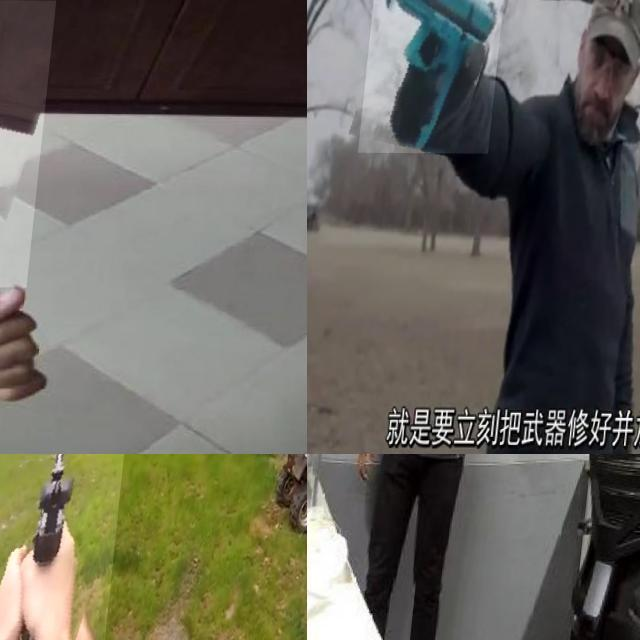-: (0, 0, 126, 286), (515, 454, 549, 492)
gun-knife-thesis - v11 Yolov5 augmented: (0, 454, 133, 640), (364, 0, 513, 153)
